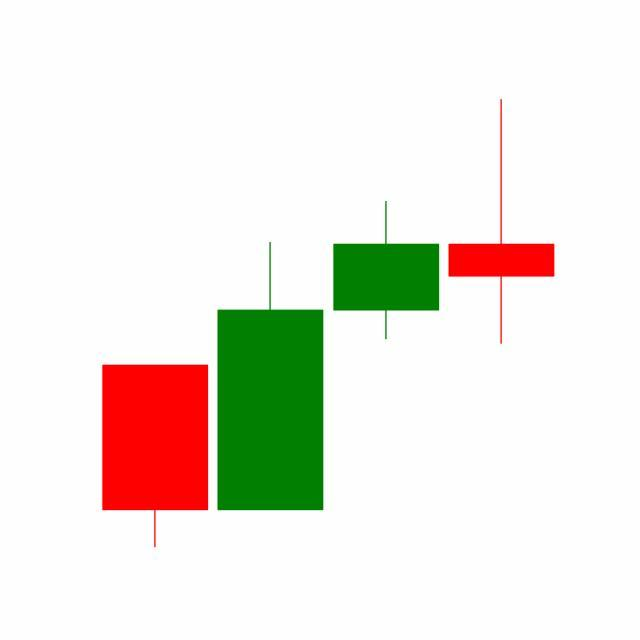Spinning Top: (444, 97, 560, 348)
